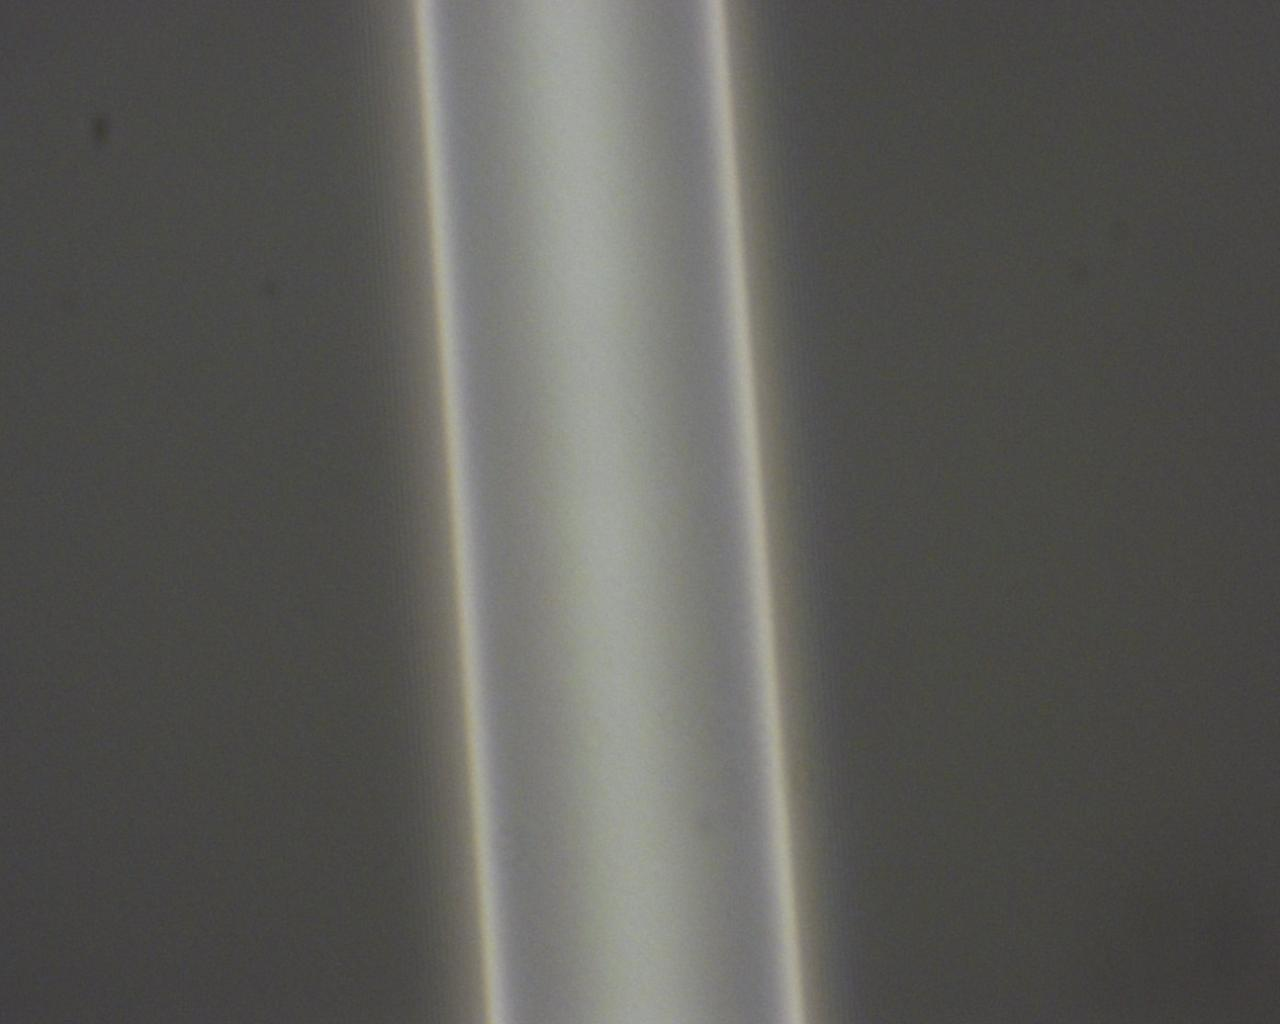fiber: (0, 65, 870, 322), (40, 603, 870, 788), (870, 0, 1225, 353), (870, 524, 1280, 788)
